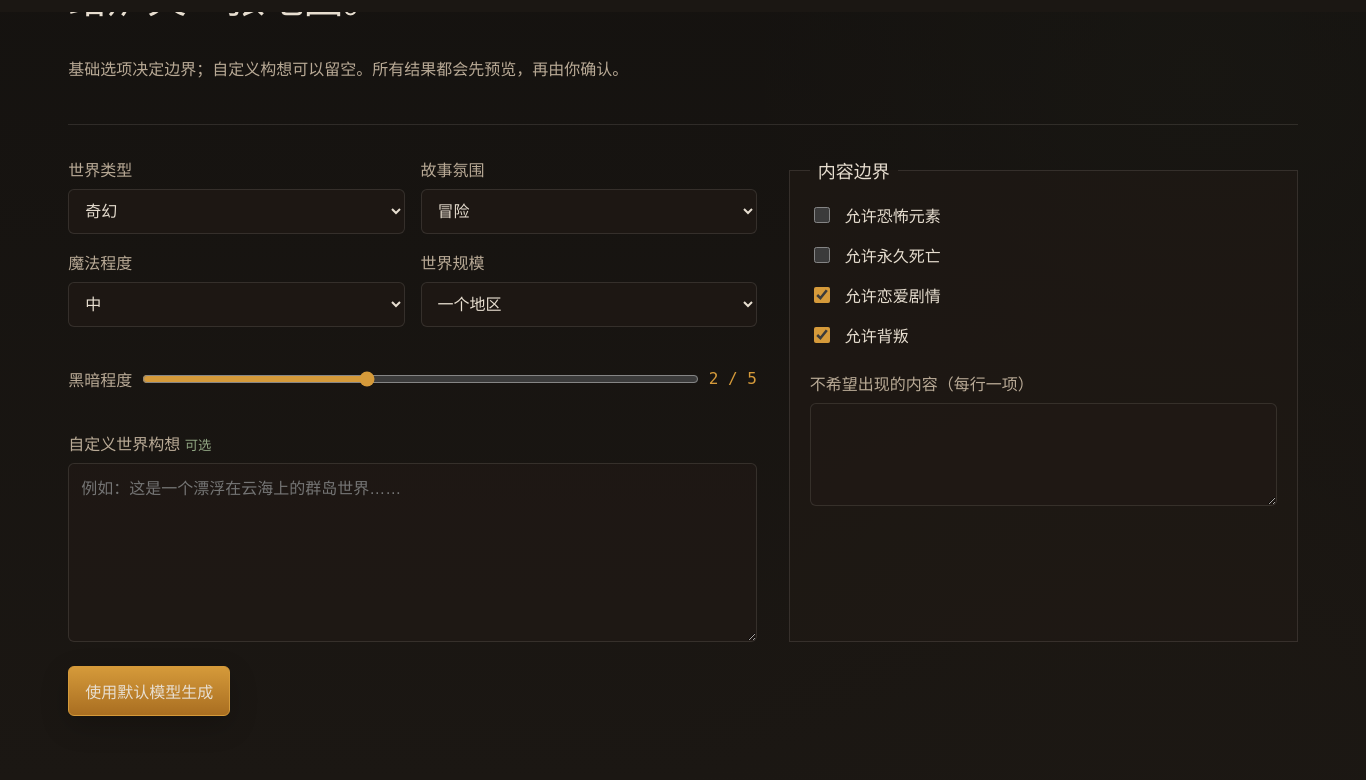
it: world creation page › cancels generation and clears the loading state without publishing a world
(page scrolled)
Click the button "使用默认模型生成" at (149, 691), box x1=68 y1=666 x2=230 y2=716
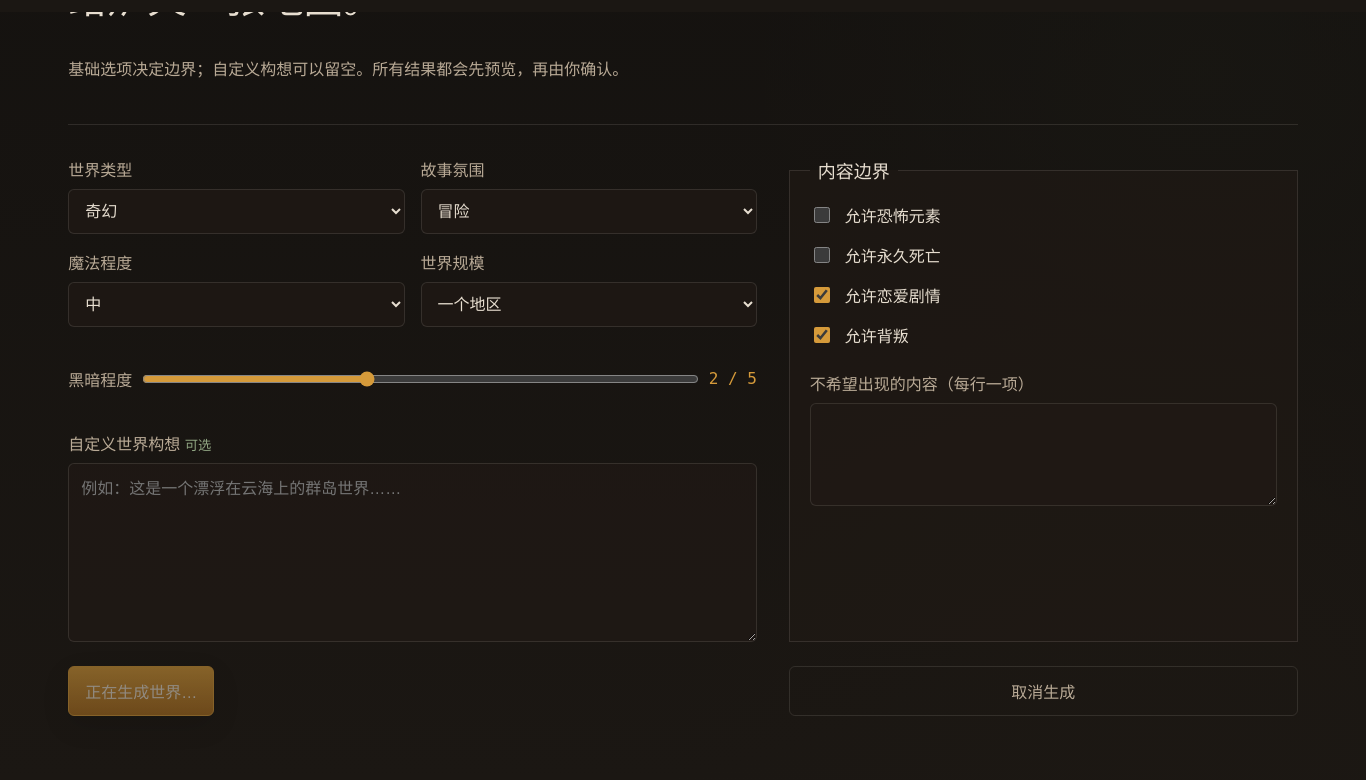
Click the button "取消生成" at (1043, 691), box x1=789 y1=666 x2=1298 y2=716
(page scrolled)
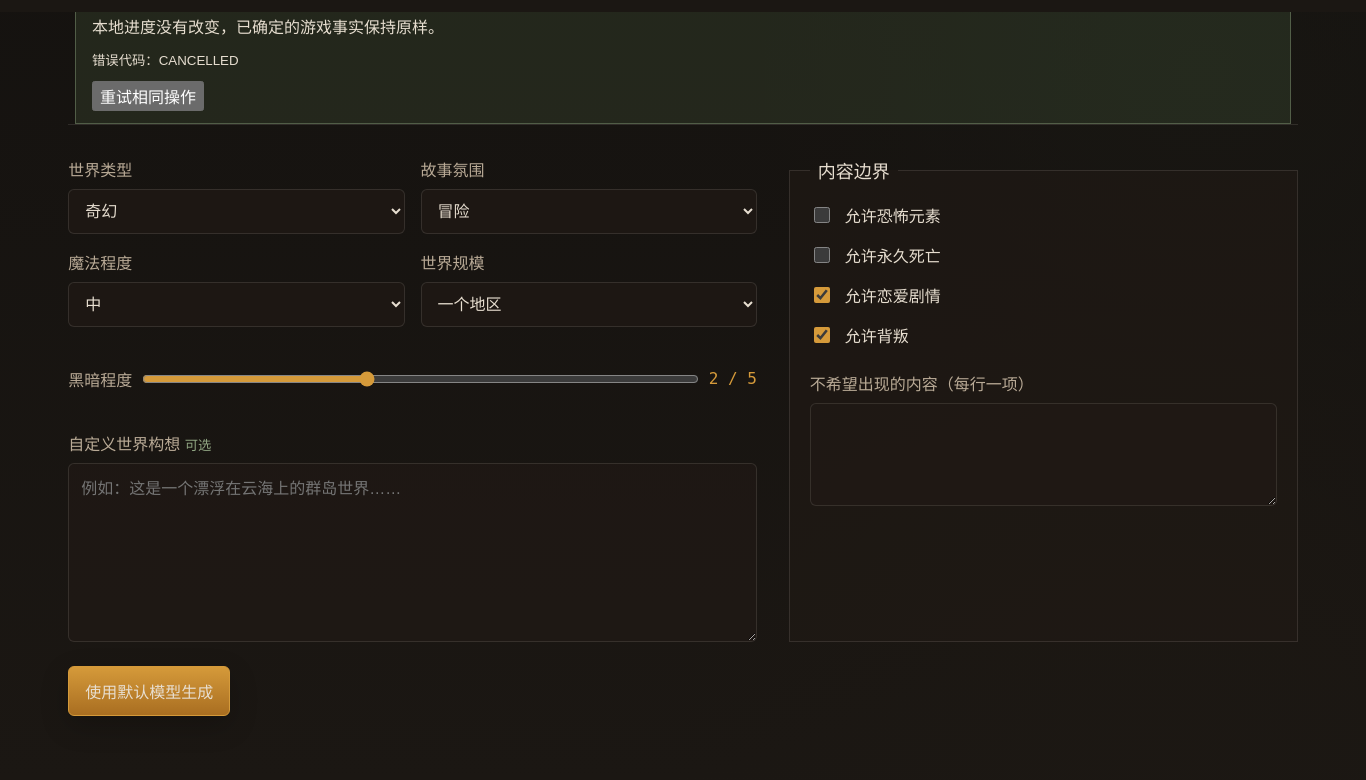
Expected: the button "使用默认模型生成" is shown, x1=68 y1=666 x2=230 y2=716
